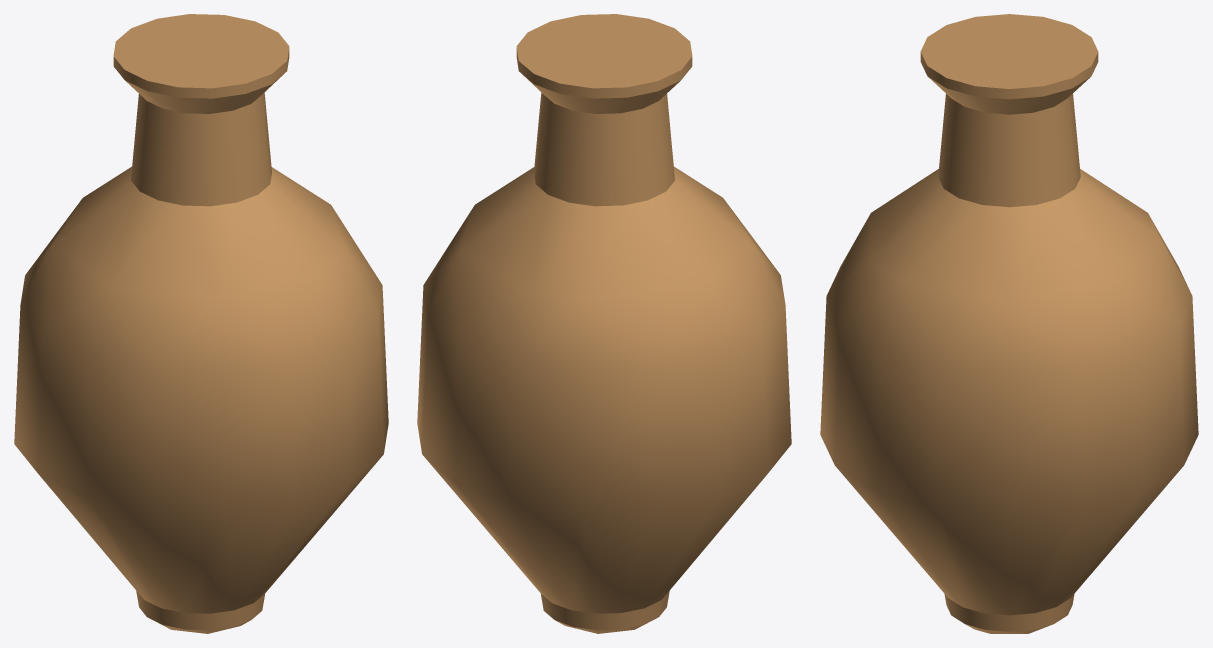
The model's file is waza_2.obj.
The picture shows the model from 3 angles, left to right: view 1: azimuth 30°, elevation 25°; view 2: azimuth 150°, elevation 25°; view 3: azimuth 270°, elevation 25°; orthographic projection.
Parts seen in each view (by area): view 1: Vert.002; view 2: Vert.002; view 3: Vert.002.
Boxes of the visible parts, x1,y1,x2,y2 form: Vert.002: (14,14,388,633); Vert.002: (417,14,791,633); Vert.002: (820,14,1198,633).
Size of the model in its own units: 0.4286 by 0.7038 by 0.4286.
